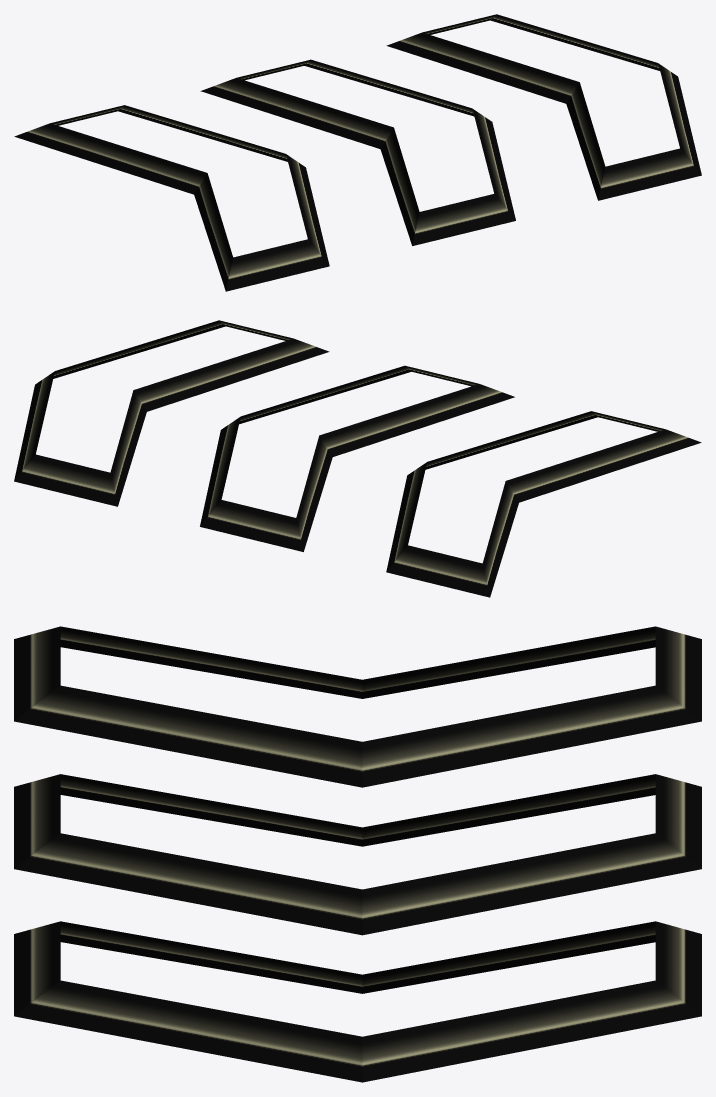
File: lubiao_03.FBX
The picture shows the model from 3 angles, top to bottom: view 1: azimuth 30°, elevation 25°; view 2: azimuth 150°, elevation 25°; view 3: azimuth 270°, elevation 25°; orthographic projection. The views are drawn at different scales.
Parts seen in each view (by area): view 1: zhishibiao_bian, zhishibiao_02, zhishibiao03; view 2: zhishibiao_bian, zhishibiao_02, zhishibiao03; view 3: zhishibiao_bian, zhishibiao03, zhishibiao_02.
Part boxes in pixels (box(x1,y1,x2,y2)): zhishibiao_bian: box(386, 14, 701, 200); zhishibiao_02: box(14, 105, 329, 291); zhishibiao03: box(200, 59, 515, 245); zhishibiao_bian: box(14, 320, 329, 506); zhishibiao_02: box(386, 411, 701, 597); zhishibiao03: box(200, 365, 514, 551); zhishibiao_bian: box(14, 921, 701, 1082); zhishibiao03: box(14, 774, 701, 935); zhishibiao_02: box(14, 626, 701, 787).
Size of the model in its own units: 30.12 by 0.9494 by 19.75.
